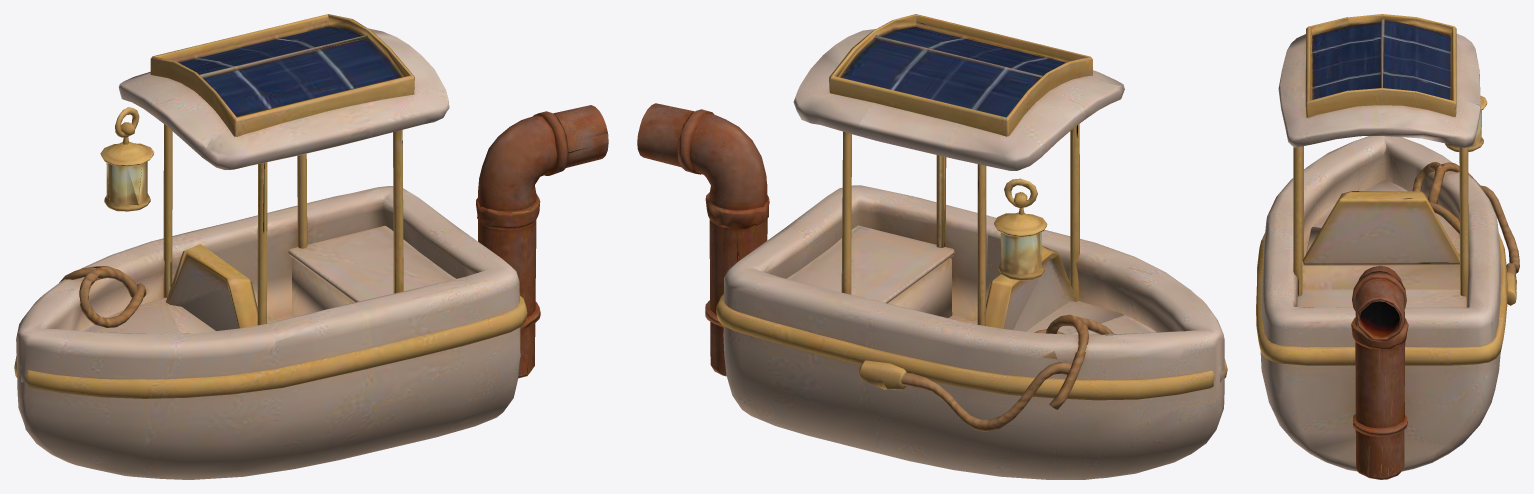
Rendered from boat.glb.
The picture shows the model from 3 angles, left to right: view 1: azimuth 30°, elevation 25°; view 2: azimuth 150°, elevation 25°; view 3: azimuth 270°, elevation 25°; orthographic projection. The views are drawn at different scales.
Visible parts, largest first — view 1: boat; view 2: boat; view 3: boat.
Part boxes in pixels (x1=…): boat: x1=14, y1=14, x2=608, y2=479; boat: x1=637, y1=14, x2=1227, y2=479; boat: x1=1256, y1=14, x2=1519, y2=479.
Size of the model in its own units: 3.5 by 2.39 by 1.61.
1 material, 1 textured.
